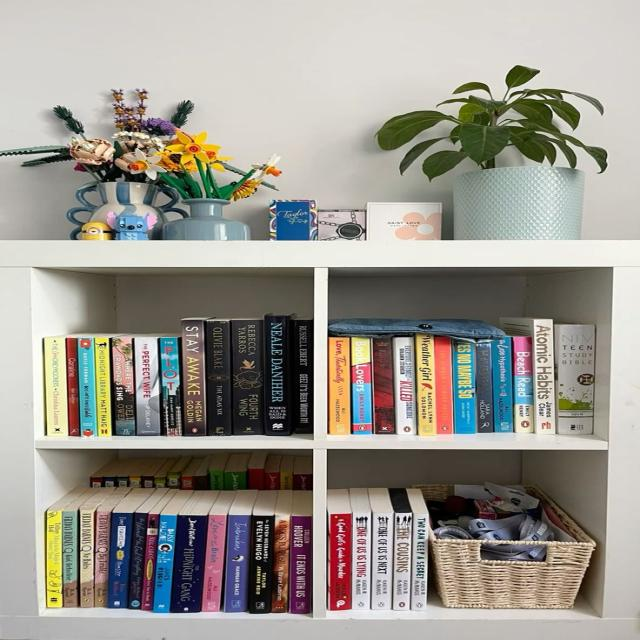book: (500, 318, 556, 434), (170, 491, 213, 613), (555, 325, 595, 434), (202, 491, 234, 611), (223, 491, 254, 612), (232, 320, 263, 435), (264, 315, 291, 436), (183, 319, 210, 436), (205, 320, 230, 436), (370, 488, 393, 610), (406, 489, 429, 610), (152, 510, 177, 613), (43, 337, 69, 436), (248, 514, 274, 613), (390, 488, 411, 610), (291, 319, 313, 434), (79, 496, 101, 608), (350, 489, 370, 610), (509, 336, 533, 433), (107, 511, 131, 608), (270, 491, 289, 613), (393, 337, 416, 435), (94, 500, 115, 607), (111, 336, 133, 435), (135, 336, 157, 435), (159, 337, 181, 436), (289, 515, 311, 614), (415, 334, 436, 436), (328, 337, 350, 434), (453, 339, 475, 433), (329, 512, 350, 610), (351, 337, 372, 434), (128, 510, 148, 609), (476, 340, 497, 432), (373, 338, 393, 434), (78, 337, 97, 437), (45, 509, 63, 608), (435, 337, 453, 435), (495, 337, 512, 432), (96, 337, 112, 437), (141, 513, 157, 610), (63, 509, 78, 607), (67, 337, 78, 436)
plants: (361, 60, 632, 242)
